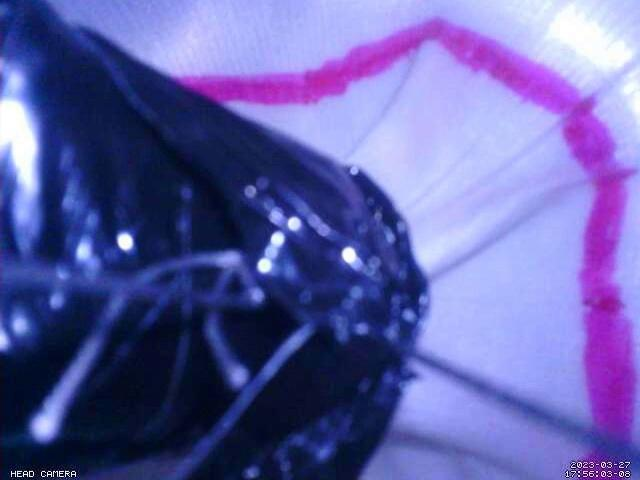red-circle: (173, 15, 637, 480)
